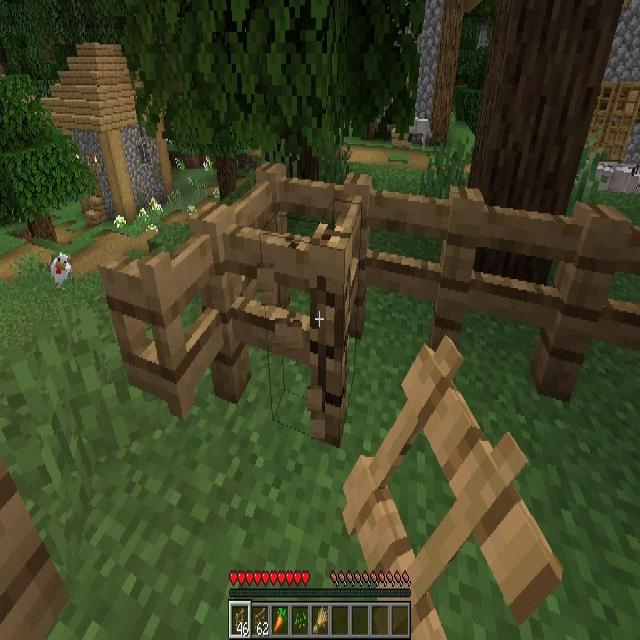duck: (51, 254, 71, 288)
